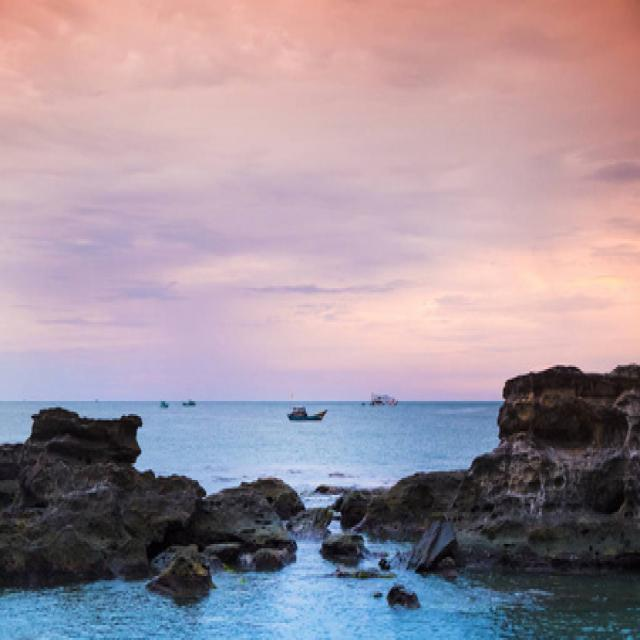reef: (182, 478, 328, 580)
